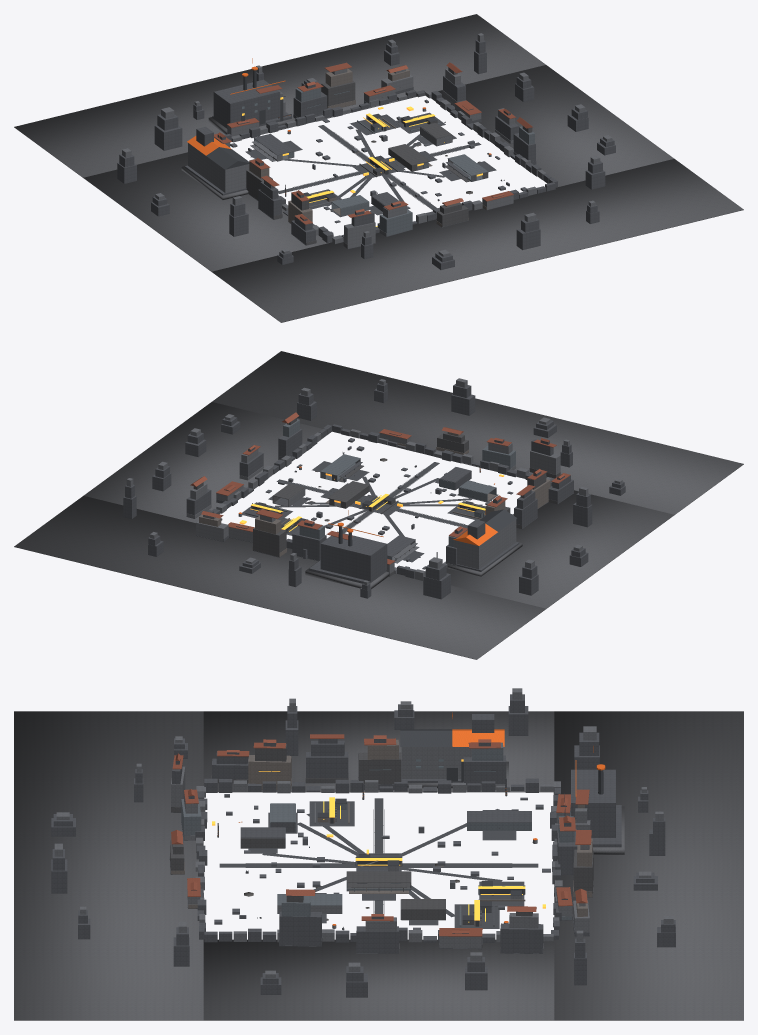
File: koushou-lod1.glb
3 renders of one model, top to bottom at view 1: azimuth 30°, elevation 25°; view 2: azimuth 150°, elevation 25°; view 3: azimuth 270°, elevation 25°, orthographic. The views are drawn at different scales.
Parts seen in each view (by area): view 1: HB_koushou_LOD1_terrain, HB_koushou_LOD1_wall_alt, HB_koushou_LOD1_wall, HB_koushou_LOD1_road, HB_koushou_LOD1_wall_weathered, HB_koushou_LOD1_wall_cool, HB_koushou_LOD1_LANDMARK_0_wall_alt, HB_koushou_LOD1_roof, HB_koushou_LOD1_LANDMARK_1_wall, HB_koushou_LOD1_wall_warm, HB_koushou_LOD1_obstacle, HB_koushou_LOD1_trim (+3 smaller); view 2: HB_koushou_LOD1_terrain, HB_koushou_LOD1_wall_alt, HB_koushou_LOD1_wall, HB_koushou_LOD1_road, HB_koushou_LOD1_wall_weathered, HB_koushou_LOD1_LANDMARK_0_wall_alt, HB_koushou_LOD1_wall_cool, HB_koushou_LOD1_roof, HB_koushou_LOD1_LANDMARK_1_wall, HB_koushou_LOD1_wall_warm, HB_koushou_LOD1_obstacle, HB_koushou_LOD1_emissive (+2 smaller); view 3: HB_koushou_LOD1_terrain, HB_koushou_LOD1_wall_alt, HB_koushou_LOD1_wall, HB_koushou_LOD1_road, HB_koushou_LOD1_wall_weathered, HB_koushou_LOD1_roof, HB_koushou_LOD1_wall_cool, HB_koushou_LOD1_wall_warm, HB_koushou_LOD1_LANDMARK_0_wall_alt, HB_koushou_LOD1_LANDMARK_1_wall, HB_koushou_LOD1_obstacle, HB_koushou_LOD1_trim (+4 smaller).
Part boxes in pixels (x1=…): HB_koushou_LOD1_terrain: x1=14, y1=14, x2=743, y2=322; HB_koushou_LOD1_wall_alt: x1=117, y1=40, x2=615, y2=269; HB_koushou_LOD1_wall: x1=122, y1=33, x2=612, y2=256; HB_koushou_LOD1_road: x1=245, y1=112, x2=496, y2=217; HB_koushou_LOD1_wall_weathered: x1=227, y1=67, x2=532, y2=248; HB_koushou_LOD1_wall_cool: x1=214, y1=87, x2=534, y2=236; HB_koushou_LOD1_LANDMARK_0_wall_alt: x1=212, y1=79, x2=291, y2=128; HB_koushou_LOD1_roof: x1=214, y1=62, x2=532, y2=224; HB_koushou_LOD1_LANDMARK_1_wall: x1=188, y1=143, x2=249, y2=192; HB_koushou_LOD1_wall_warm: x1=249, y1=68, x2=486, y2=226; HB_koushou_LOD1_obstacle: x1=230, y1=99, x2=526, y2=233; HB_koushou_LOD1_trim: x1=278, y1=91, x2=504, y2=211; HB_koushou_LOD1_terrain: x1=14, y1=351, x2=743, y2=659; HB_koushou_LOD1_wall_alt: x1=123, y1=383, x2=625, y2=599; HB_koushou_LOD1_wall: x1=126, y1=378, x2=622, y2=584; HB_koushou_LOD1_road: x1=242, y1=461, x2=496, y2=562; HB_koushou_LOD1_wall_weathered: x1=193, y1=418, x2=560, y2=575; HB_koushou_LOD1_LANDMARK_0_wall_alt: x1=309, y1=531, x2=387, y2=583; HB_koushou_LOD1_wall_cool: x1=252, y1=419, x2=515, y2=559; HB_koushou_LOD1_roof: x1=190, y1=412, x2=570, y2=564; HB_koushou_LOD1_LANDMARK_1_wall: x1=454, y1=519, x2=516, y2=569; HB_koushou_LOD1_wall_warm: x1=199, y1=432, x2=550, y2=556; HB_koushou_LOD1_obstacle: x1=221, y1=438, x2=513, y2=569; HB_koushou_LOD1_emissive: x1=239, y1=473, x2=504, y2=531; HB_koushou_LOD1_terrain: x1=14, y1=711, x2=743, y2=1020; HB_koushou_LOD1_wall_alt: x1=51, y1=694, x2=675, y2=997; HB_koushou_LOD1_wall: x1=54, y1=688, x2=673, y2=977; HB_koushou_LOD1_road: x1=219, y1=798, x2=538, y2=928; HB_koushou_LOD1_wall_weathered: x1=170, y1=744, x2=593, y2=924; HB_koushou_LOD1_roof: x1=171, y1=734, x2=591, y2=936; HB_koushou_LOD1_wall_cool: x1=181, y1=742, x2=574, y2=926; HB_koushou_LOD1_wall_warm: x1=171, y1=739, x2=592, y2=926; HB_koushou_LOD1_LANDMARK_0_wall_alt: x1=570, y1=769, x2=621, y2=847; HB_koushou_LOD1_LANDMARK_1_wall: x1=401, y1=747, x2=471, y2=778; HB_koushou_LOD1_obstacle: x1=214, y1=794, x2=550, y2=929; HB_koushou_LOD1_trim: x1=241, y1=769, x2=557, y2=929.
Bounding box in the file's own units: 654 × 87.93 × 654.
Materials: 14 (12 with a texture image).
